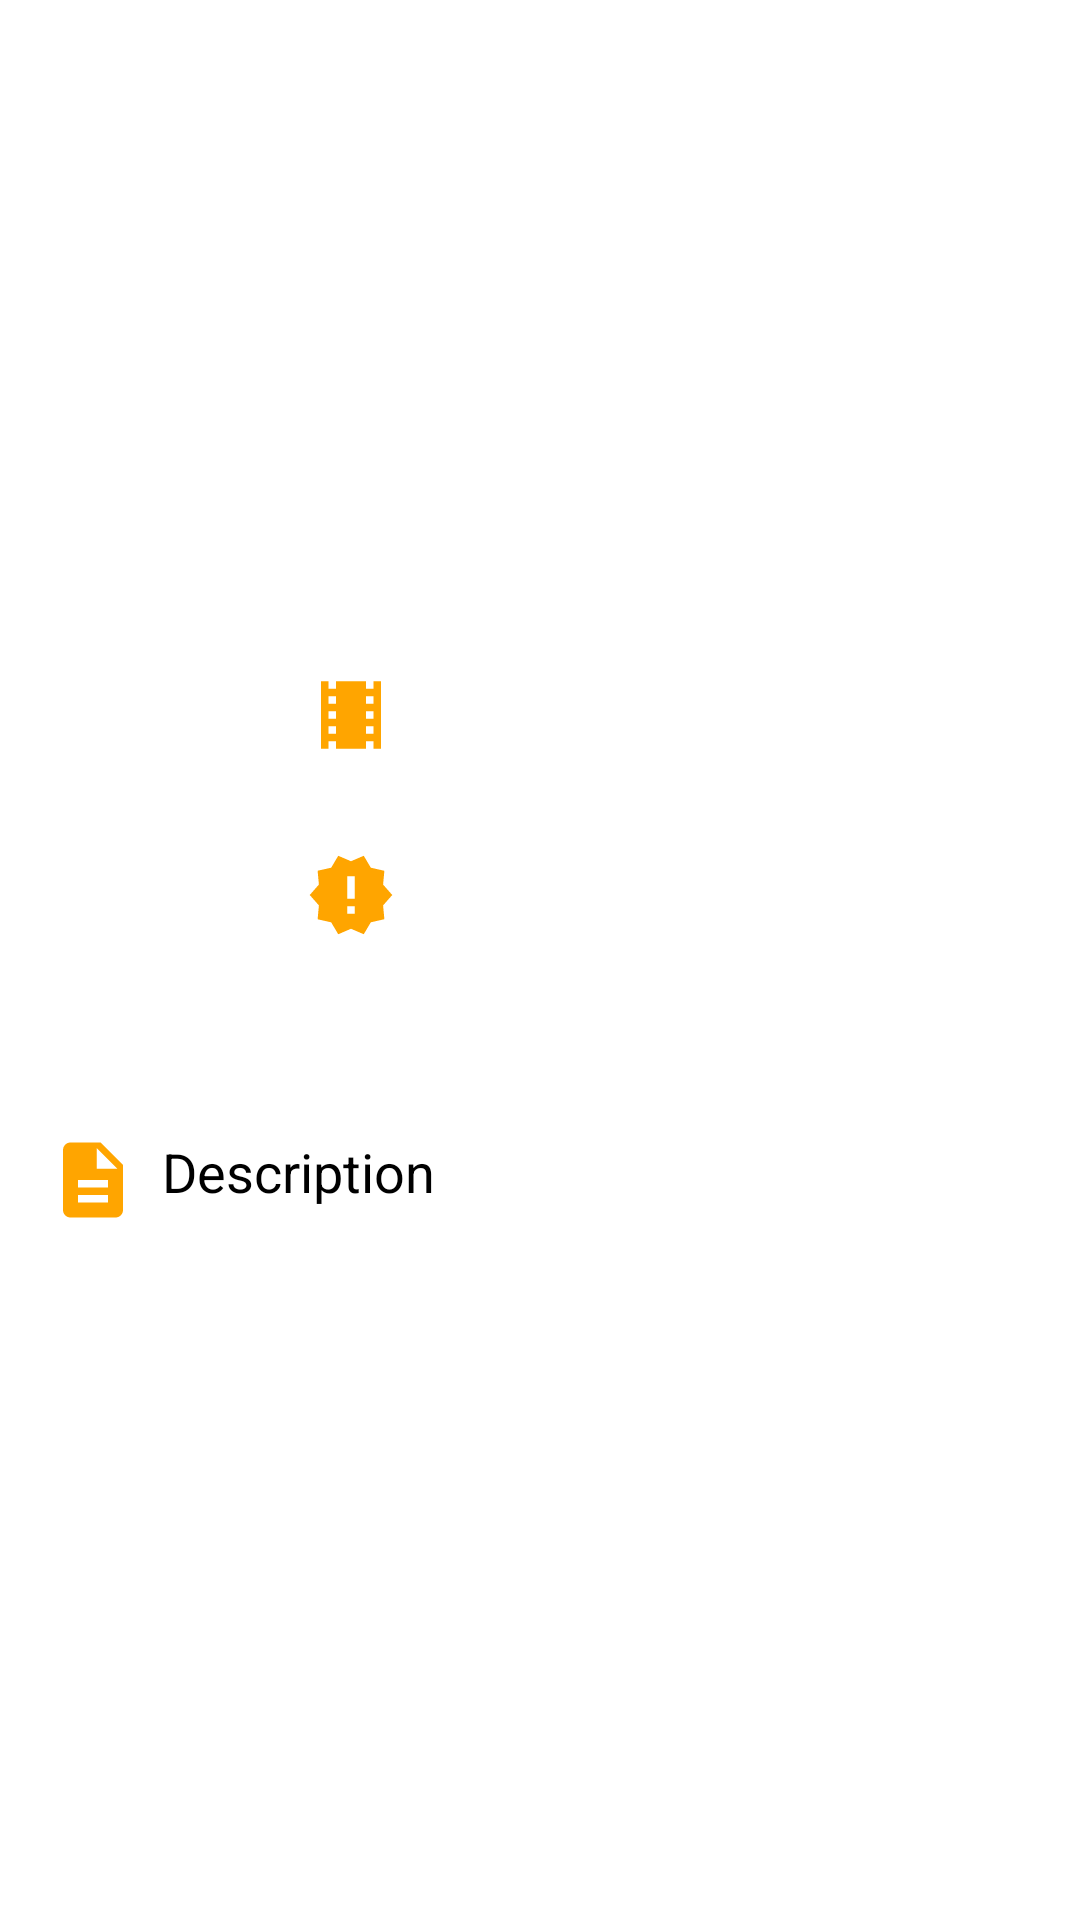

Icons on this 1080x1920 Android screen, each with its box as (x1=x1, y1=y1, x2=x2, y2=y2):
movie: (x1=321, y1=681, x2=381, y2=749)
release: (x1=310, y1=856, x2=392, y2=934)
